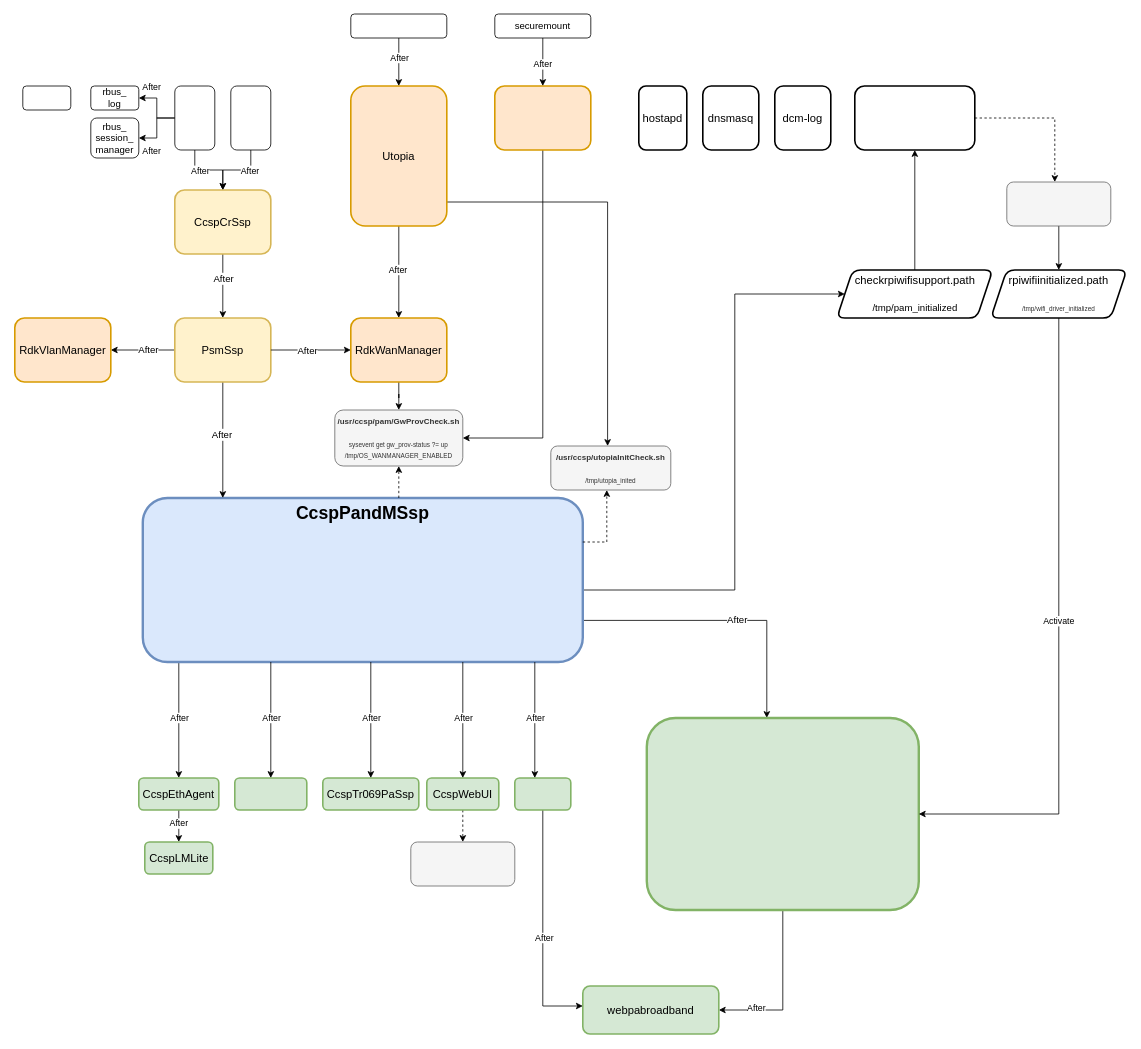
Image size: 1141x1049. Some labels were removed from this diagram. The centre of each missing label's shape, as x and y in pixels:
"/lib/rdk/brlan0_check.sh" goes at [462,863].
"/usr/ccsp/wifi/checkwifi.sh /tmp/wifi_driver_initialized" goes at [1058,203].
"CcspTandD" goes at [270,793].
"ccspwifiagent" goes at [782,813].
"checkrpiwifisupport" goes at [914,117].
"dbus" goes at [250,117].
"gwprovapp" goes at [542,117].
"mount-nonvol" goes at [398,25].
"parodus" goes at [542,793].
"rbus" goes at [194,117].
"rbus_ monitor" goes at [46,97].
